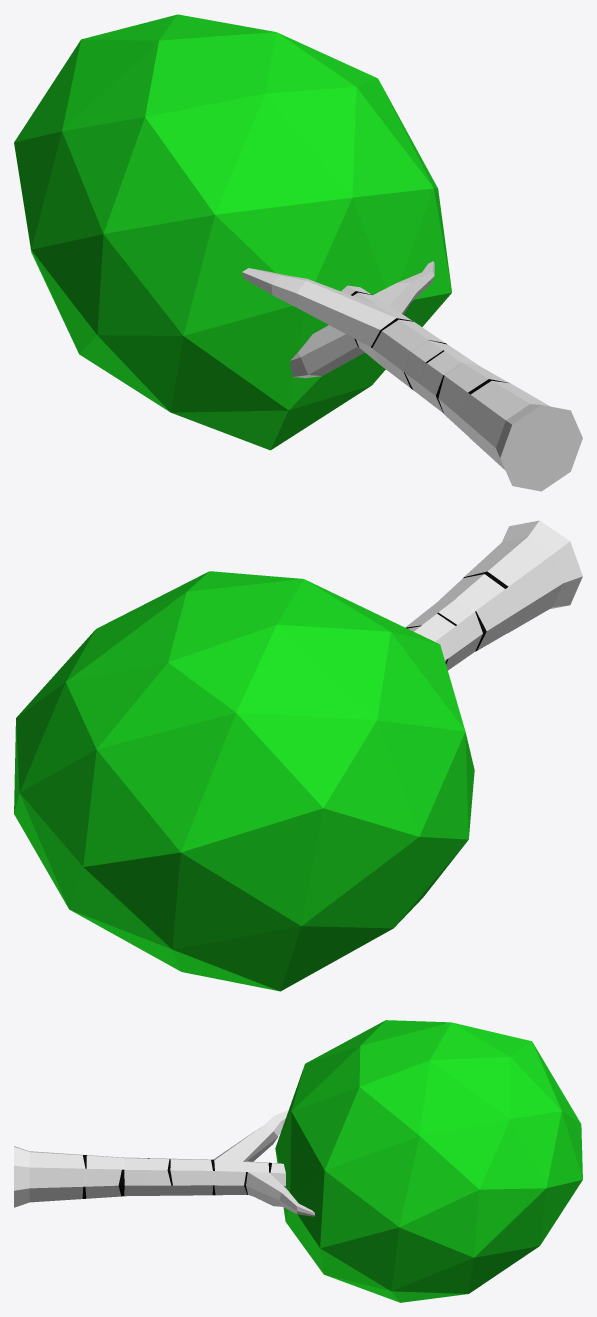
Rendered from BirchTree_1.fbx.
The picture shows the model from 3 angles, top to bottom: view 1: azimuth 30°, elevation 25°; view 2: azimuth 150°, elevation 25°; view 3: azimuth 270°, elevation 25°; orthographic projection. The views are drawn at different scales.
Parts seen in each view (by area): view 1: BirchTree_1; view 2: BirchTree_1; view 3: BirchTree_1.
Part boxes in pixels (bbox=[...]): BirchTree_1: bbox=[14, 14, 582, 491]; BirchTree_1: bbox=[14, 520, 582, 991]; BirchTree_1: bbox=[14, 1020, 582, 1302].
Bounding box in the file's own units: 403 × 367 × 771.
